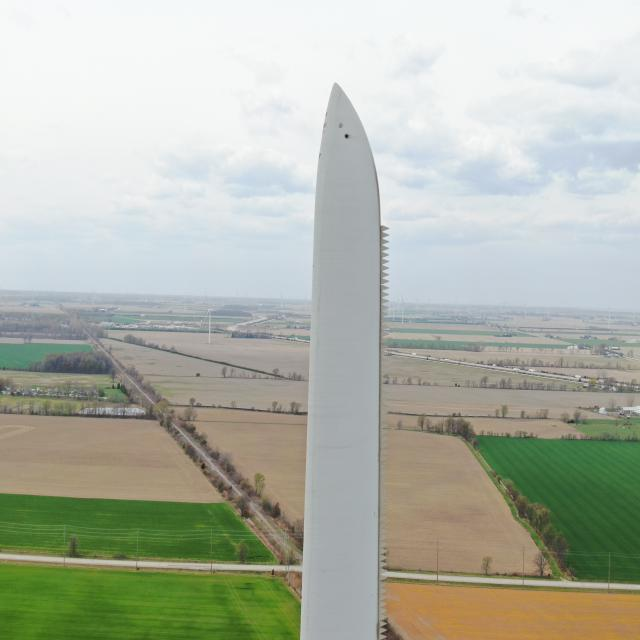damage: (344, 132, 351, 140)
